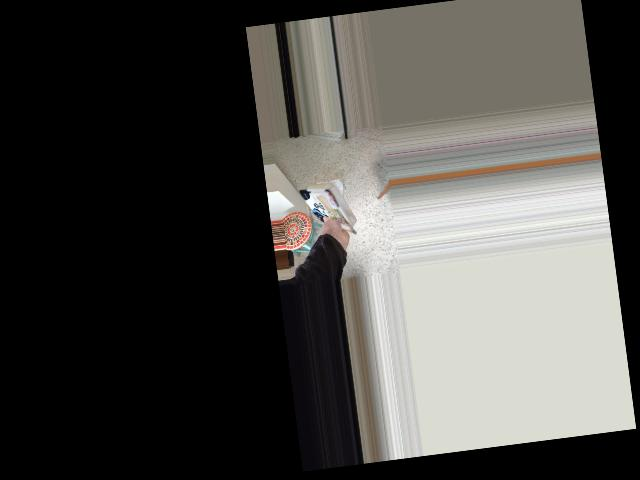cheese: (288, 175, 366, 254)
